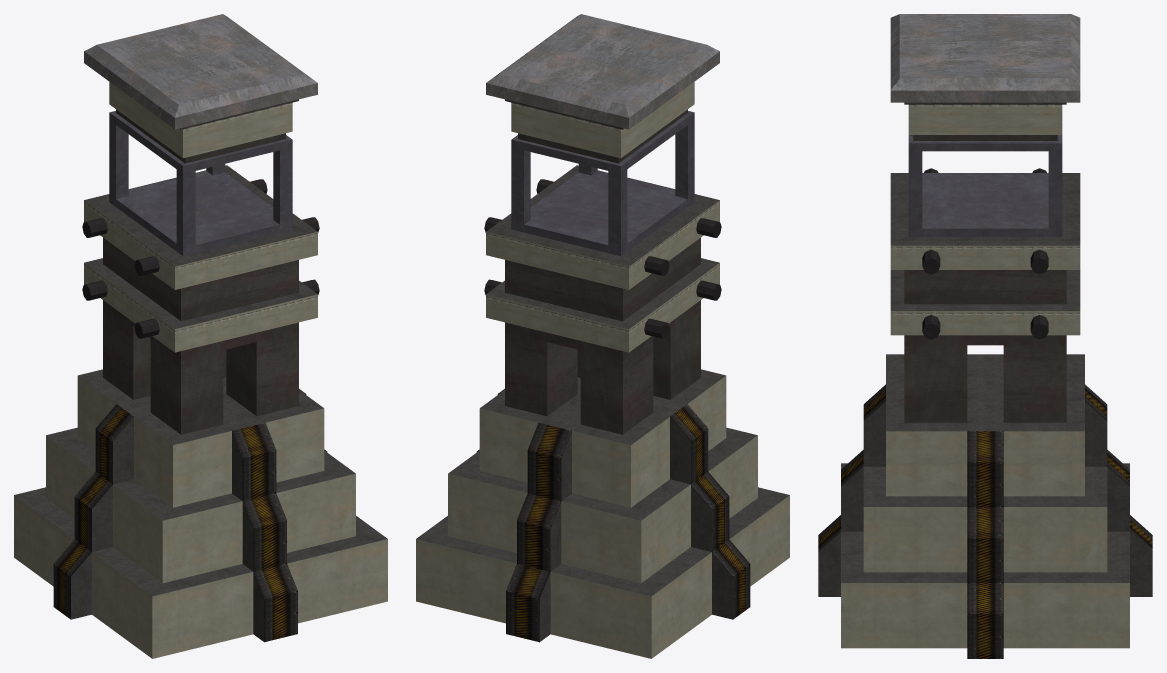
The model's file is ziggerattower.fbx.
3 renders of one model, left to right at view 1: azimuth 30°, elevation 25°; view 2: azimuth 150°, elevation 25°; view 3: azimuth 270°, elevation 25°, orthographic. The views are drawn at different scales.
Parts seen in each view (by area): view 1: Object; view 2: Object; view 3: Object.
Part boxes in pixels (bbox=[...]): Object: bbox=[14, 14, 387, 658]; Object: bbox=[416, 14, 789, 658]; Object: bbox=[818, 14, 1152, 658].
Bounding box in the file's own units: 4800 × 8600 × 4800.
